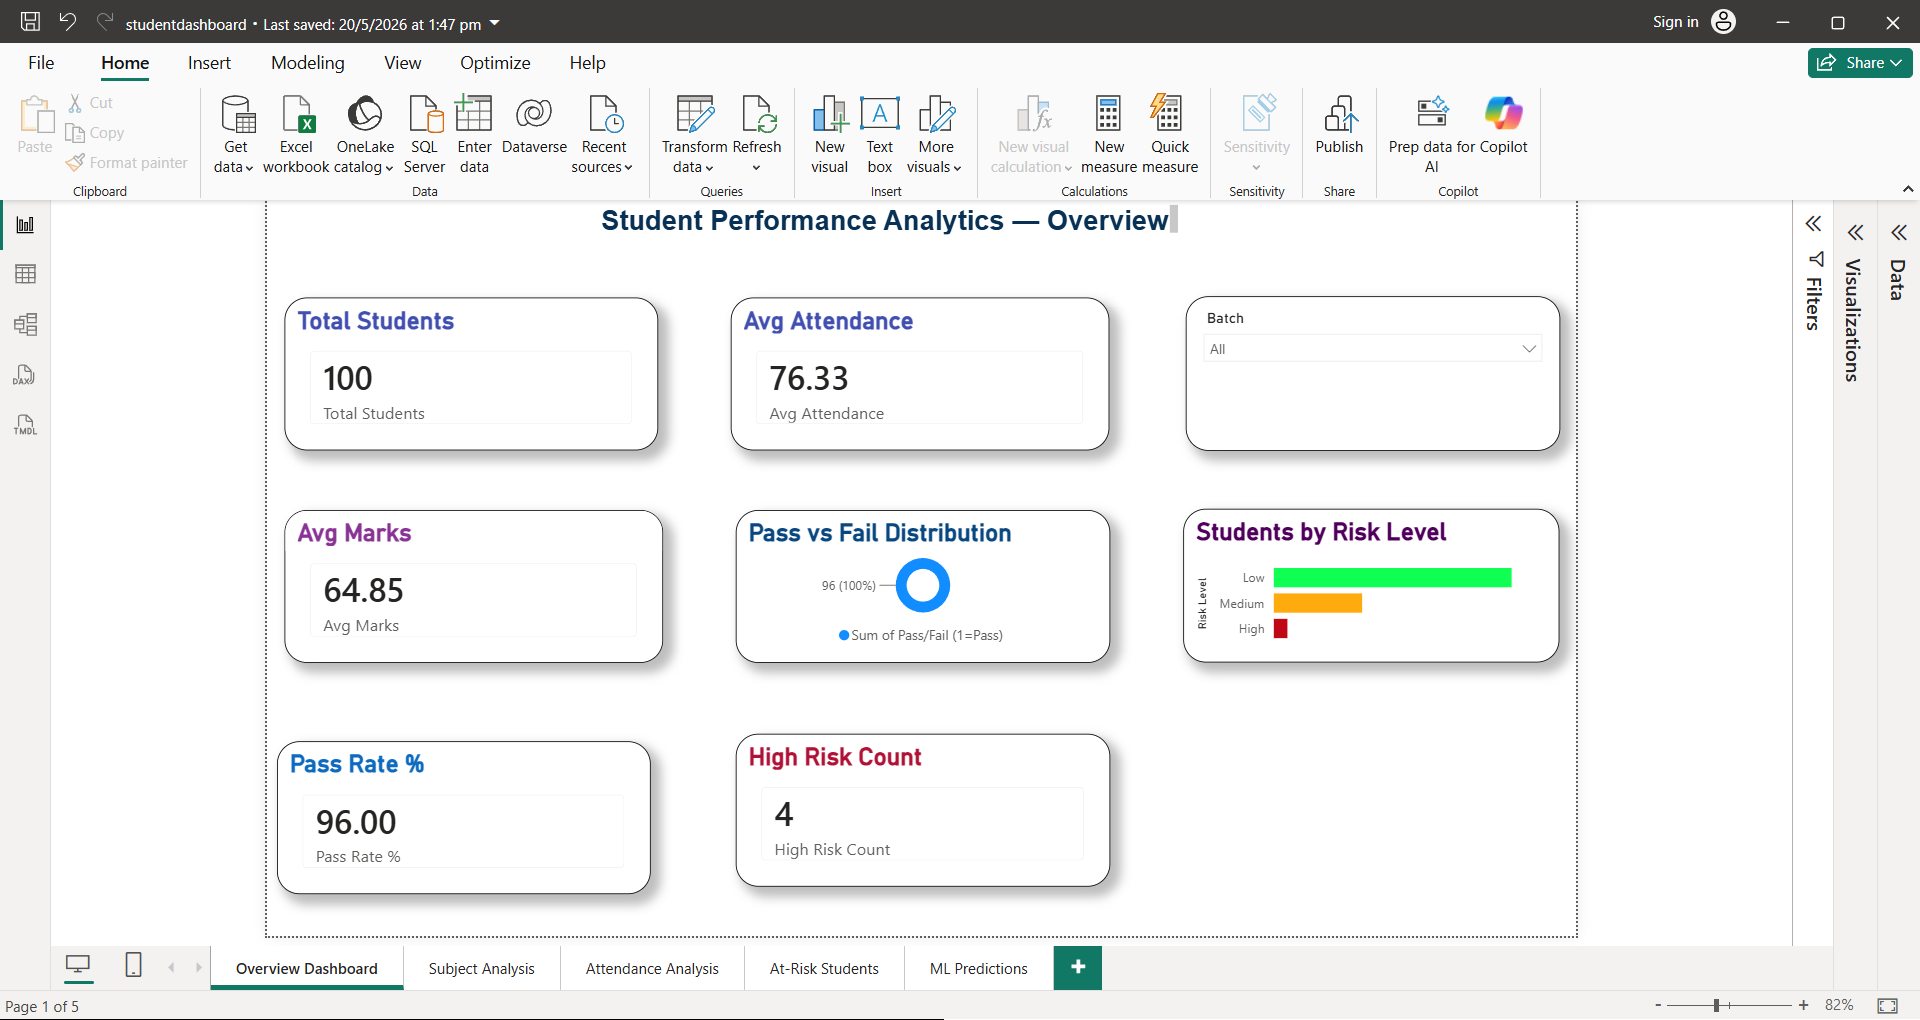

Layout of this report page (visuals, bound fields, positions):
{"tool":"powerbi","page":{"name":"Overview Dashboard","canvas":[1280,720],"ordinal":0},"visuals":[{"type":"textbox","box":[321.9,0,574.8,38.9],"z":0},{"type":"cardVisual","title":"Total Students","fields":{"Data":["Student Data.Total Students"]},"box":[17.5,95.3,365.7,149.8],"z":1000},{"type":"cardVisual","title":"Pass Rate %","fields":{"Data":["Student Data.Pass Rate %"]},"box":[9.7,529.1,365.7,149.8],"z":2000},{"type":"cardVisual","title":"Avg Attendance","fields":{"Data":["Student Data.Avg Attendance"]},"box":[454.2,95.3,370.6,149.8],"z":3000},{"type":"cardVisual","title":"Avg Marks","fields":{"Data":["Student Data.Avg Marks"]},"box":[17.5,303.5,370.6,149.8],"z":4000},{"type":"cardVisual","title":"High Risk Count","fields":{"Data":["Student Data.High Risk Count"]},"box":[458.1,522.3,366.7,149.8],"z":5000},{"type":"donutChart","title":"Pass vs Fail Distribution","fields":{"Y":["Sum(Student Data.Pass/Fail (1=Pass))"]},"box":[458.1,303.5,366.7,149.8],"z":6000},{"type":"clusteredBarChart","title":"Students by Risk Level","fields":{"Category":["Student Data.Risk Level"],"Y":["Student Data.Total Students"]},"box":[896.8,302.5,367.7,150.8],"z":7000},{"type":"slicer","fields":{"Values":["Student Data.Batch"]},"box":[898.8,94.7,366.4,150.9],"z":8000}]}

Visuals, with their boxes on the page's 1280x720 design canvas (x1, y1, x2, y2). These are canvas units, not pixel positions in the 1920x1020 screenshot, which may show the page scaled, cropped or inside an application window:
textbox: box(322, 0, 897, 39)
"Total Students" cardVisual: box(18, 95, 383, 245)
"Pass Rate %" cardVisual: box(10, 529, 375, 679)
"Avg Attendance" cardVisual: box(454, 95, 825, 245)
"Avg Marks" cardVisual: box(18, 304, 388, 453)
"High Risk Count" cardVisual: box(458, 522, 825, 672)
"Pass vs Fail Distribution" donutChart: box(458, 304, 825, 453)
"Students by Risk Level" clusteredBarChart: box(897, 302, 1264, 453)
slicer - Student Data.Batch: box(899, 95, 1265, 246)
